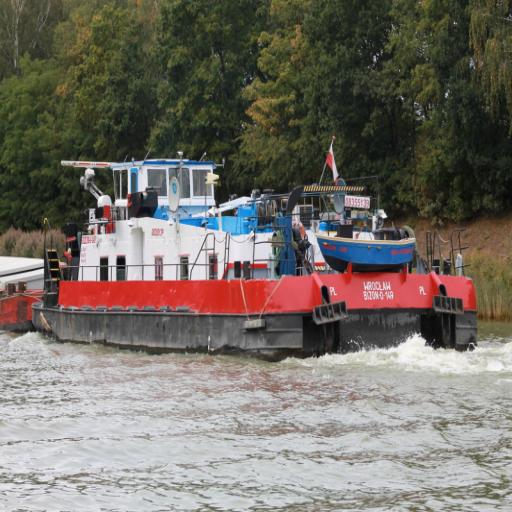tugboat: (30, 148, 482, 367)
